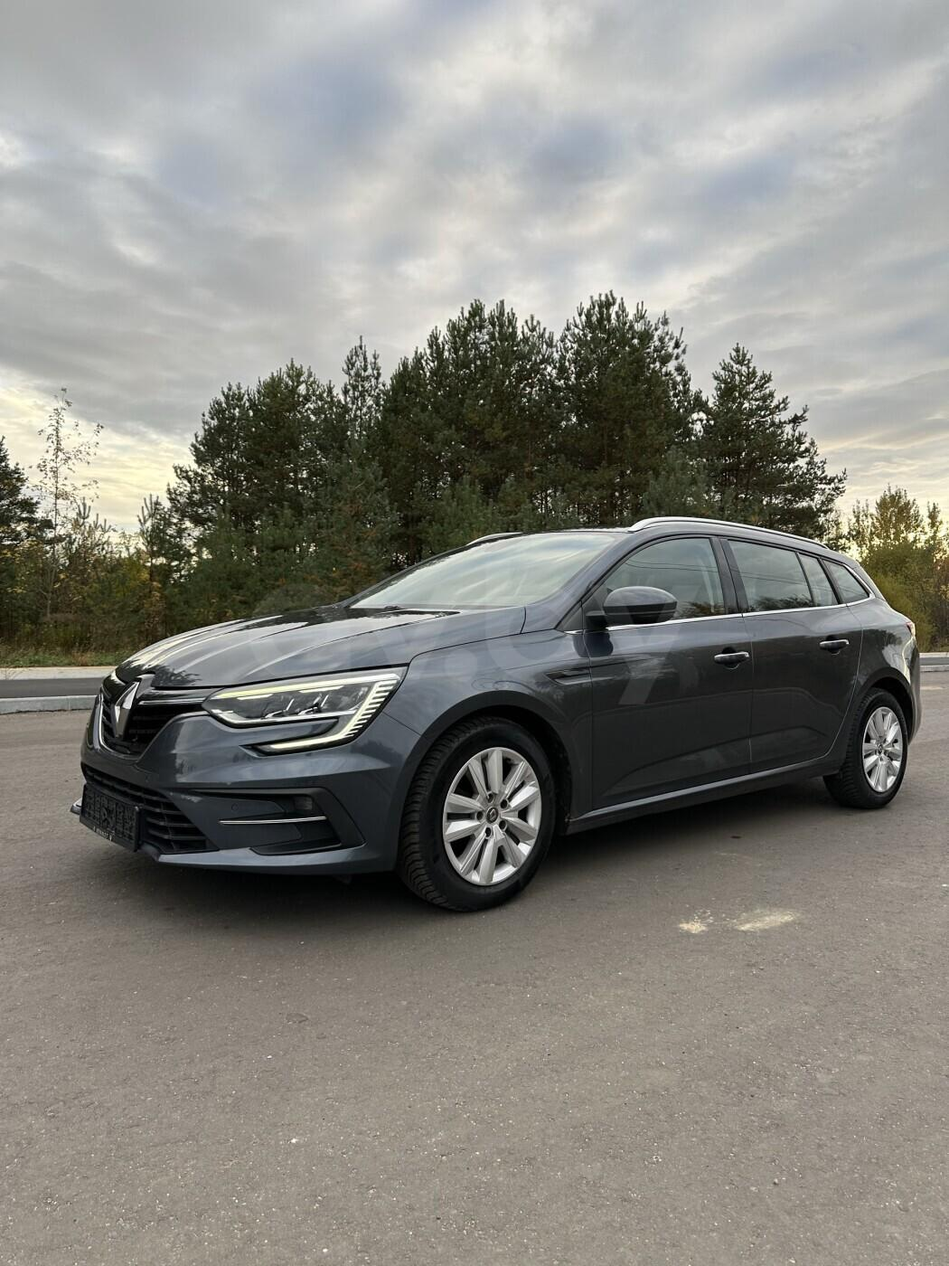Megane_2020: (83, 505, 920, 913)
